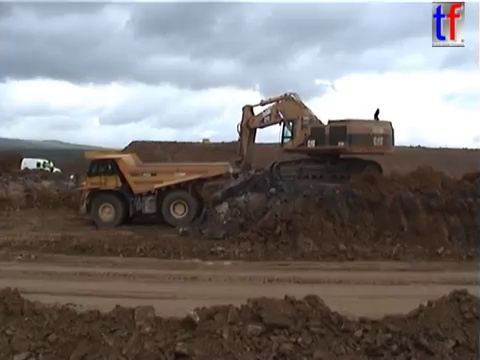excavator: (223, 89, 397, 194)
truck: (67, 148, 230, 228)
worker: (46, 157, 55, 177), (39, 158, 47, 175)
